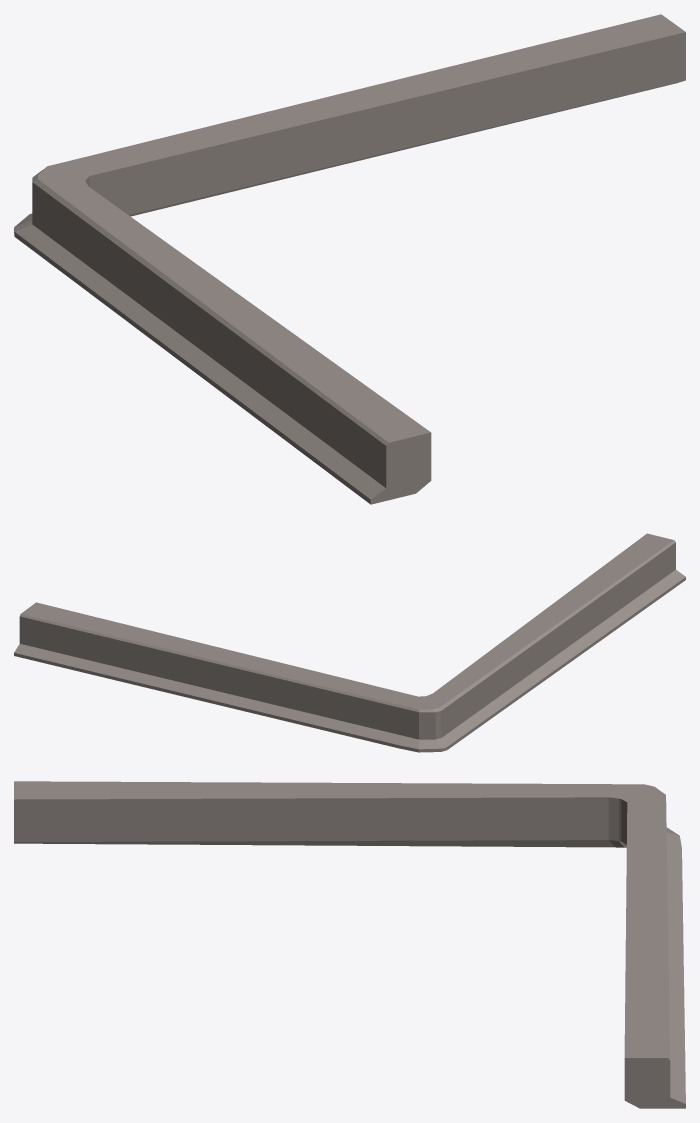
File: Road_16.fbx
The picture shows the model from 3 angles, top to bottom: view 1: azimuth 30°, elevation 25°; view 2: azimuth 150°, elevation 25°; view 3: azimuth 270°, elevation 25°; orthographic projection. The views are drawn at different scales.
Visible parts, largest first — view 1: Road_16; view 2: Road_16; view 3: Road_16.
Part boxes in pixels (x1,y1,x2,y2): Road_16: [14, 14, 685, 504]; Road_16: [14, 533, 685, 752]; Road_16: [14, 781, 685, 1108].
Size of the model in its own units: 6.27 by 0.5208 by 6.26.
